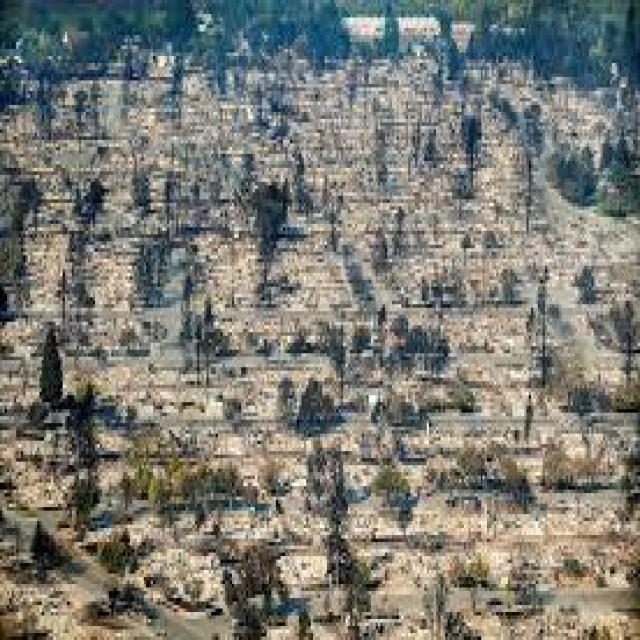Forest Fire: (123, 166, 583, 624)
